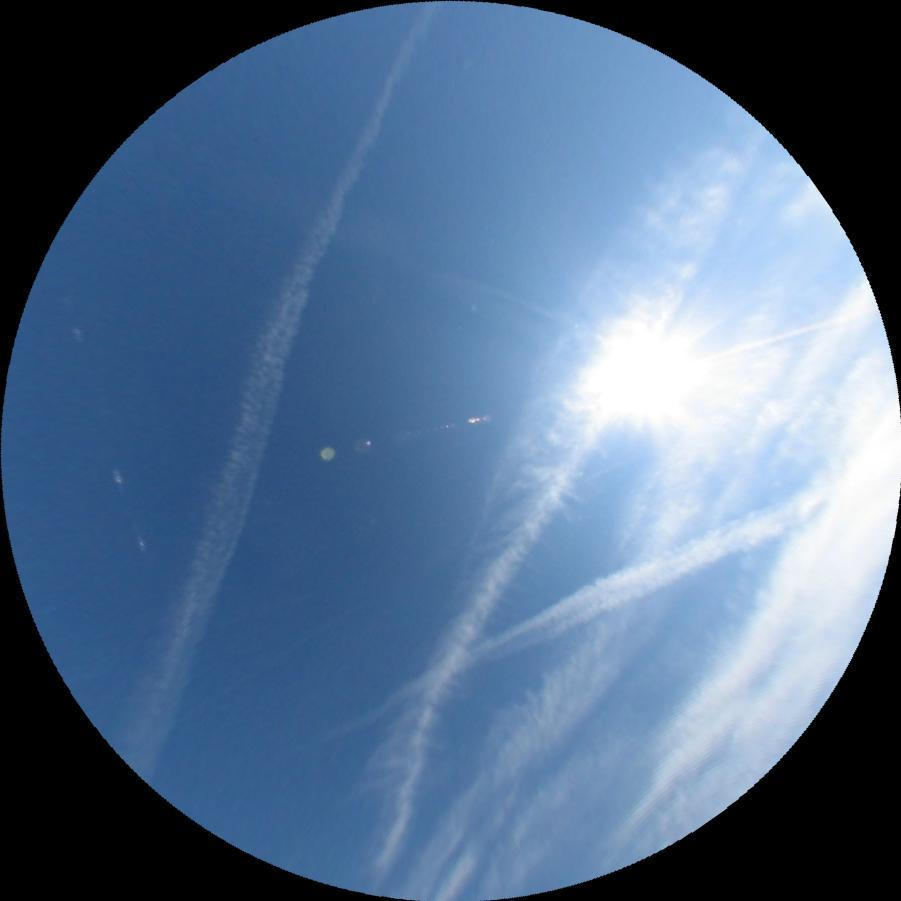contrail veryold: (286, 114, 759, 896), (99, 0, 439, 783), (310, 482, 824, 743)
parasite: (134, 602, 356, 747), (712, 294, 874, 356), (108, 469, 149, 553)
sun: (601, 325, 709, 415)
unknow: (407, 260, 609, 334)
